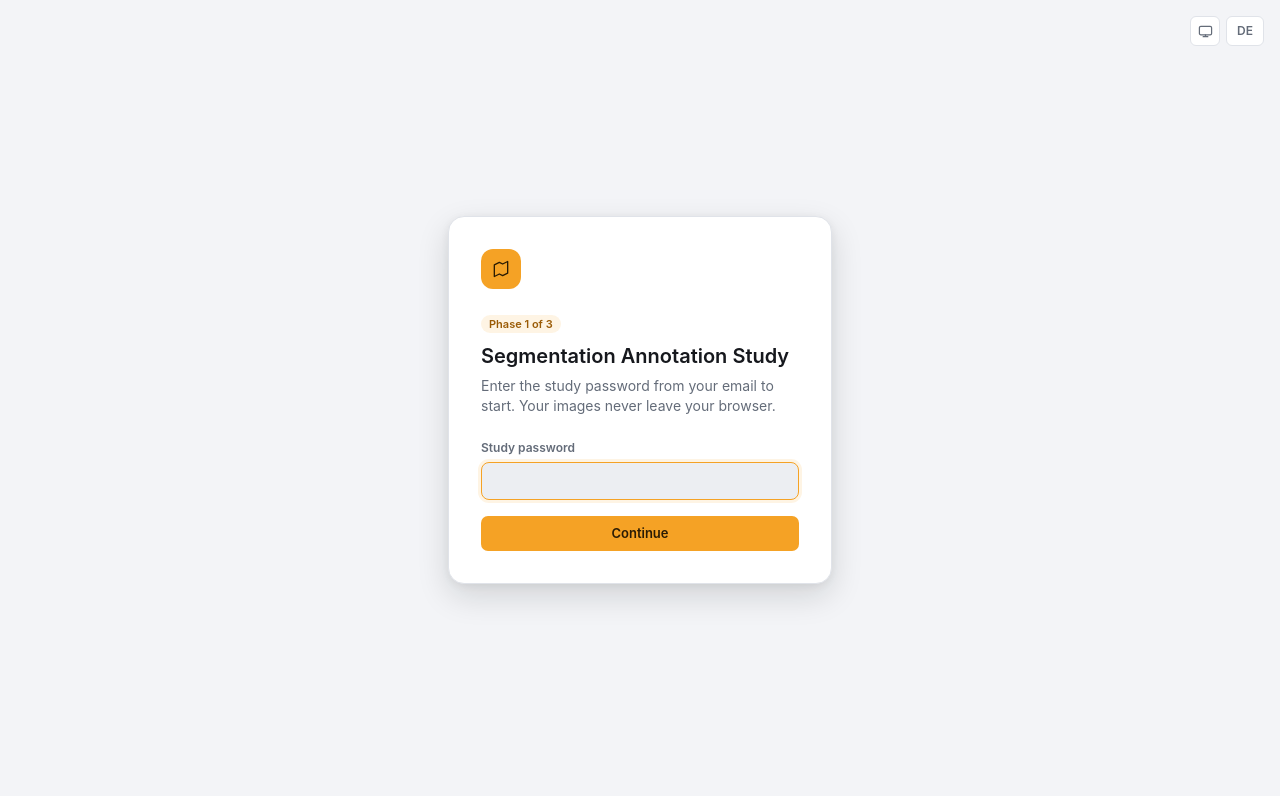
it: phase 1 entry gate › lets a participant in with the right password, on to the consent step
In the password field labelled "Study password": [640, 481] box x1=481 y1=462 x2=799 y2=500, type "CI-studie-2026-teil1"
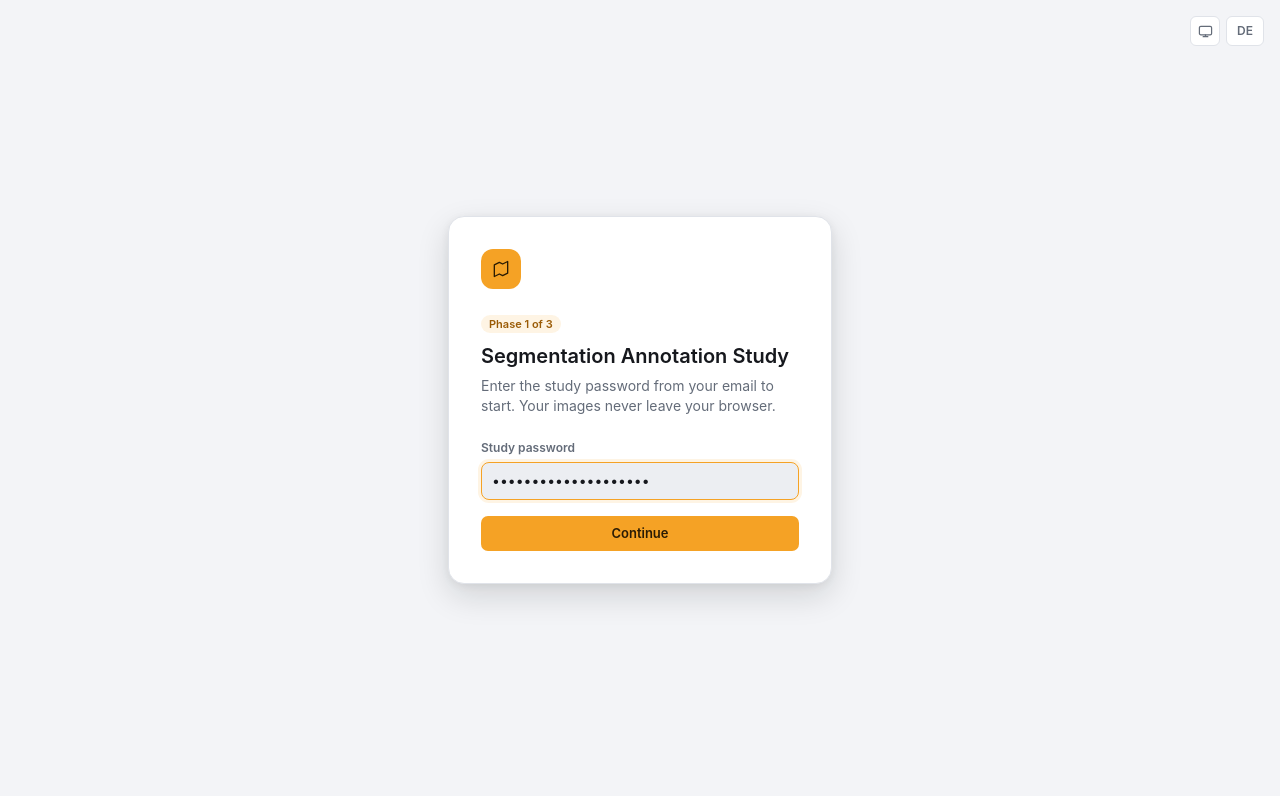
Click the button "Continue": [640, 533] box x1=481 y1=516 x2=799 y2=551
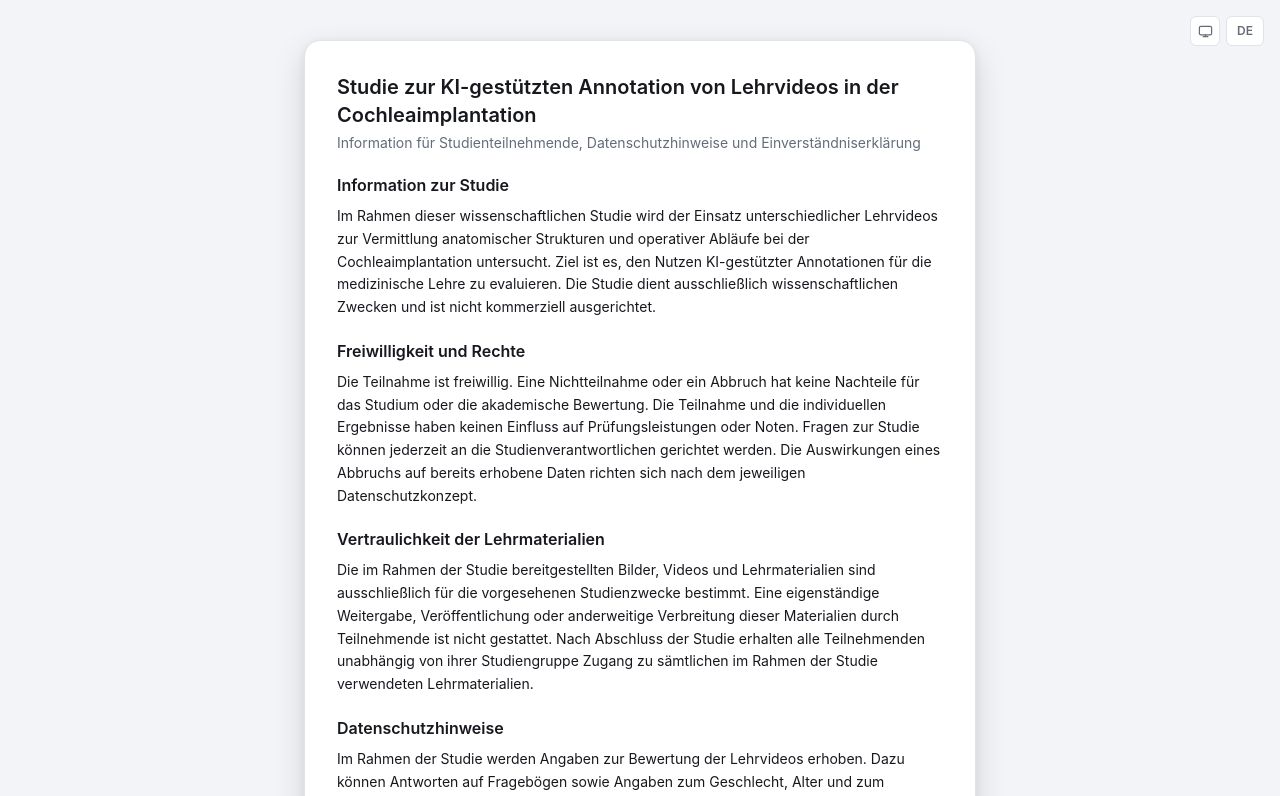
Now the heading "Studie zur KI-gestützten Annotation von Lehrvideos in der Cochleaimplantation" is shown, box x1=337 y1=73 x2=943 y2=129
Now the text labelled "study password" is gone
